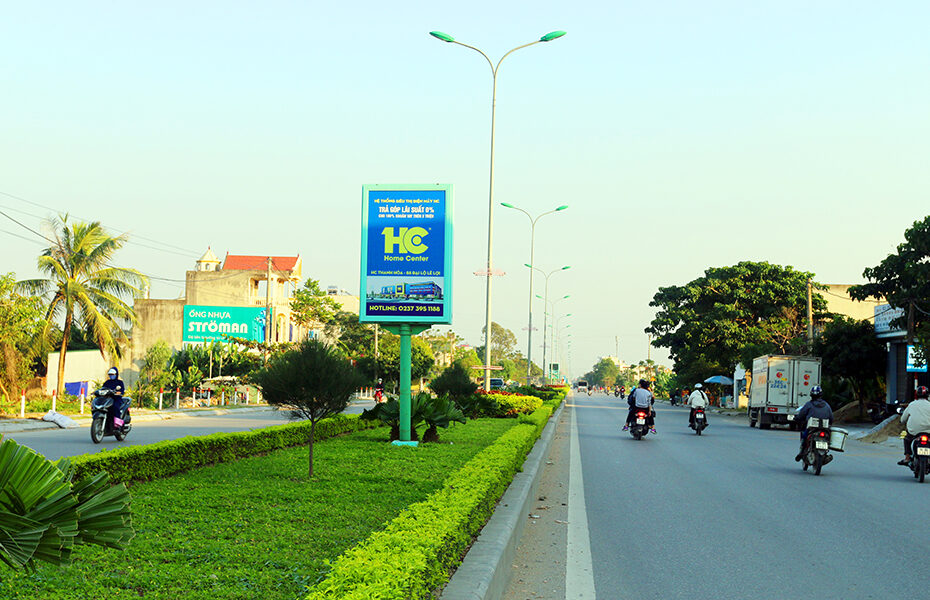bien_so: (813, 438, 830, 452), (916, 446, 930, 457), (635, 417, 647, 427)
